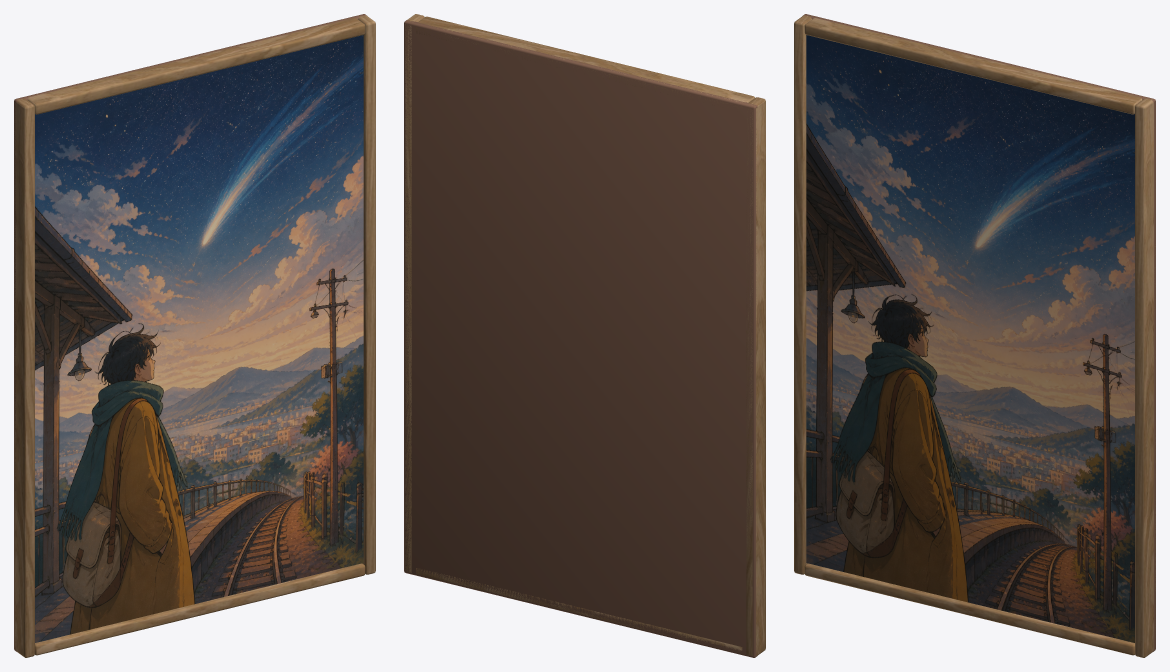
File: starlight-poster.glb
3 views of the same model, side by side, from view 1: azimuth 30°, elevation 25°; view 2: azimuth 150°, elevation 25°; view 3: azimuth 330°, elevation 25° (orthographic).
Parts seen in each view (by area): view 1: catalog_surface_UVMap, catalog_surface_RealismUV; view 2: catalog_surface_RealismUV; view 3: catalog_surface_UVMap, catalog_surface_RealismUV.
Boxes of the visible parts, left/top/right/bottom form: catalog_surface_UVMap: left=35, top=35, right=363, bottom=642; catalog_surface_RealismUV: left=14, top=14, right=375, bottom=657; catalog_surface_RealismUV: left=404, top=14, right=765, bottom=657; catalog_surface_UVMap: left=806, top=35, right=1134, bottom=642; catalog_surface_RealismUV: left=794, top=14, right=1155, bottom=657.
Size of the model in its own units: 0.6 by 0.9 by 0.035.
Materials: 3 (2 with a texture image).
